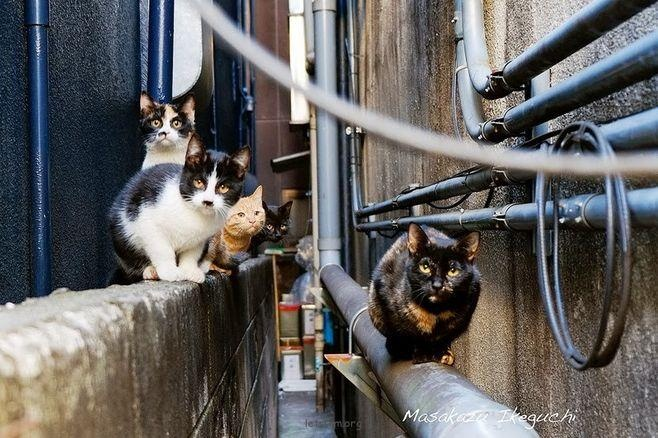cat: (106, 134, 251, 283), (369, 222, 481, 362), (137, 91, 197, 170), (218, 186, 265, 254), (250, 199, 292, 250)
